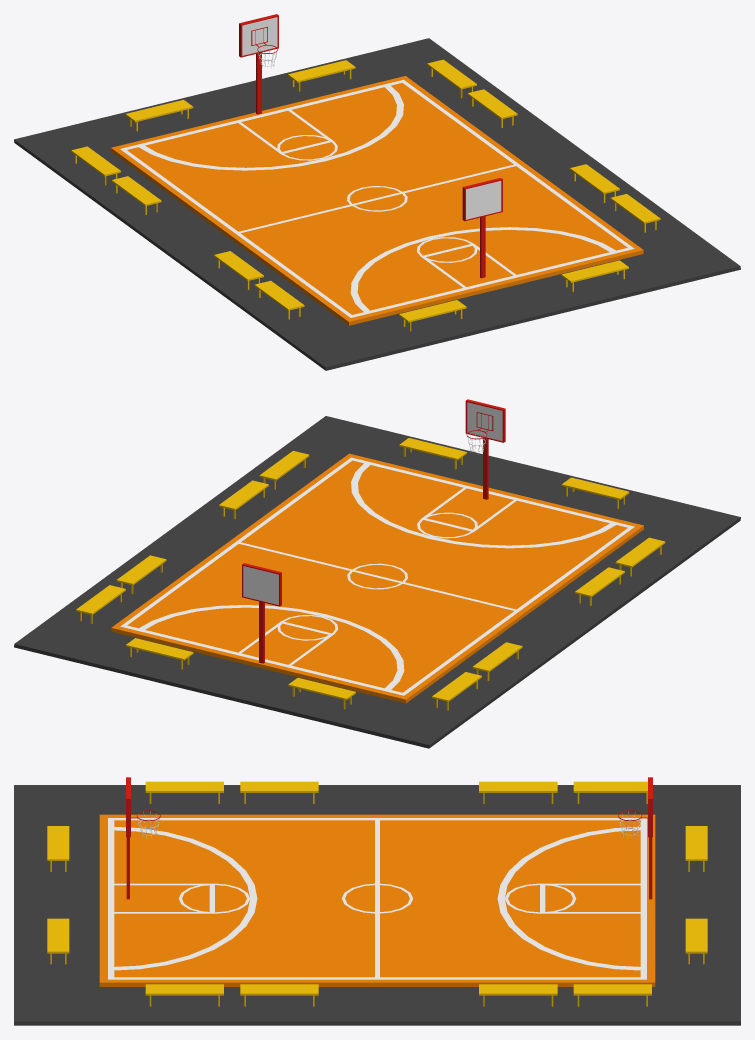
The model's file is Basketball_stadium.fbx.
3 renders of one model, top to bottom at view 1: azimuth 30°, elevation 25°; view 2: azimuth 150°, elevation 25°; view 3: azimuth 270°, elevation 25°, orthographic. The views are drawn at different scales.
Parts seen in each view (by area): view 1: Ground, Bench.001, Basket_2, Basket_1; view 2: Ground, Bench.001, Basket_1, Basket_2; view 3: Ground, Bench.001, Basket_2, Basket_1.
Part boxes in pixels (box(x1,y1,x2,y2)): Ground: box(14, 38, 740, 370); Bench.001: box(71, 59, 660, 331); Basket_2: box(239, 14, 278, 114); Basket_1: box(462, 178, 502, 278); Ground: box(14, 416, 740, 748); Bench.001: box(76, 438, 665, 710); Basket_1: box(465, 399, 505, 499); Basket_2: box(242, 563, 281, 663); Ground: box(14, 785, 740, 1025); Bench.001: box(47, 781, 707, 1006); Basket_2: box(618, 777, 652, 899); Basket_1: box(126, 777, 160, 899).
Size of the model in its own units: 2239 by 523 by 2909.
